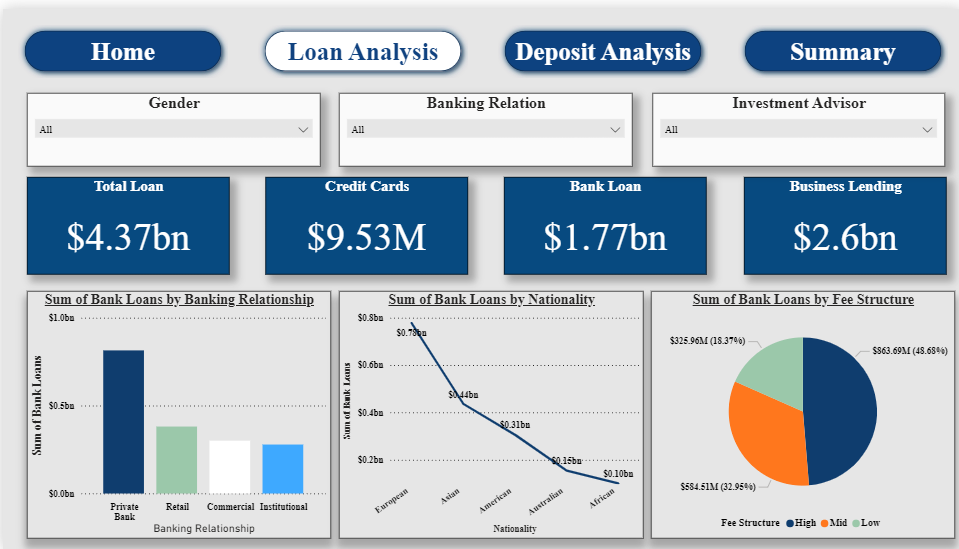

The dashboard page shown, as its layout file describes it:
{"tool":"powerbi","page":{"name":"Loan Analysis","canvas":[1280,720],"ordinal":1},"visuals":[{"type":"shape","box":[960,19,320,72],"z":0},{"type":"shape","box":[640,19,320,72],"z":1000},{"type":"shape","box":[320,19,320,72],"z":2000},{"type":"slicer","title":"Banking Relation","fields":{"Values":["Clients - Banking.Banking Relationship"]},"box":[447.9,112,391.2,97.8],"z":3000},{"type":"slicer","title":"Gender","fields":{"Values":["Clients - Banking.Gender.Gender"]},"box":[31.2,112,391.2,97.8],"z":4000},{"type":"card","title":"Total Loan","fields":{"Values":["Banking Relationship.Total Loan"]},"box":[32,224,270,130],"z":5000},{"type":"card","title":"Credit Cards","fields":{"Values":["Sum(Clients - Banking.Credit Card Balance)"]},"box":[350.4,224,270,130],"z":6000},{"type":"card","title":"Bank Loan","fields":{"Values":["Sum(Clients - Banking.Bank Loans)"]},"box":[668.7,224,270,130],"z":7000},{"type":"card","title":"Business Lending","fields":{"Values":["Sum(Clients - Banking.Business Lending)"]},"box":[987.1,224,270,130],"z":8000},{"type":"columnChart","fields":{"Y":["Sum(Clients - Banking.Bank Loans)"],"Category":["Clients - Banking.Banking Relationship"]},"box":[32,375,405,330],"z":9000},{"type":"pieChart","fields":{"Y":["Sum(Clients - Banking.Bank Loans)"],"Category":["Clients - Banking.Fee Structure"]},"box":[864,375,405,330],"z":10000},{"type":"lineChart","fields":{"Category":["Clients - Banking.Bank Loans","Clients - Banking.Nationality"],"Y":["Sum(Clients - Banking.Bank Loans)"]},"box":[448,375,406,330],"z":11000},{"type":"slicer","title":"Investment Advisor","fields":{"Values":["Clients - Banking.Investment Advisor"]},"box":[866,112,389.8,97.8],"z":16000},{"type":"shape","box":[0,19,320,72],"z":17000}]}

Visuals, with their boxes in screenshot pixels (x1, y1, x2, y2), scaled from the page's 1280x720 canvas onto the 959x549 screenshot:
shape: left=719, top=14, right=958, bottom=69
shape: left=480, top=14, right=719, bottom=69
shape: left=240, top=14, right=480, bottom=69
"Banking Relation" slicer: left=336, top=85, right=629, bottom=160
"Gender" slicer: left=23, top=85, right=316, bottom=160
"Total Loan" card: left=24, top=171, right=226, bottom=270
"Credit Cards" card: left=263, top=171, right=465, bottom=270
"Bank Loan" card: left=501, top=171, right=703, bottom=270
"Business Lending" card: left=740, top=171, right=942, bottom=270
columnChart - Sum(Clients - Banking.Bank Loans) x Clients - Banking.Banking Relationship: left=24, top=286, right=327, bottom=538
pieChart - Sum(Clients - Banking.Bank Loans) x Clients - Banking.Fee Structure: left=647, top=286, right=951, bottom=538
lineChart - Clients - Banking.Bank Loans x Clients - Banking.Nationality: left=336, top=286, right=640, bottom=538
"Investment Advisor" slicer: left=649, top=85, right=941, bottom=160
shape: left=0, top=14, right=240, bottom=69
